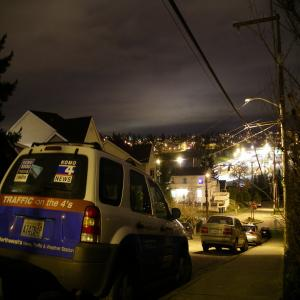Vehicle-registration-plate: (19, 215, 43, 257), (214, 230, 220, 235)
